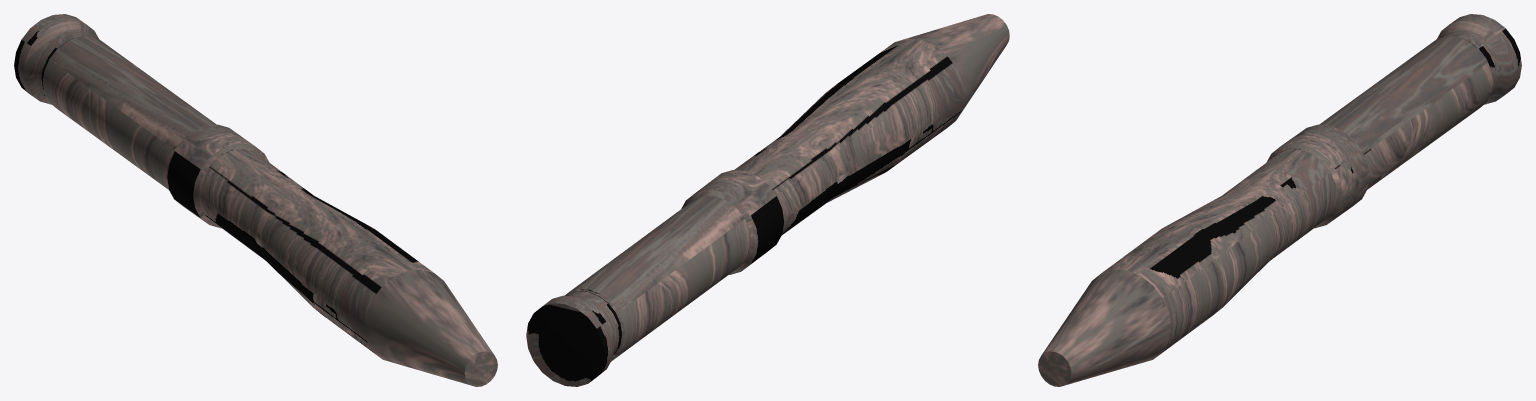
File: tris.obj
3 views of the same model, side by side, from view 1: azimuth 30°, elevation 25°; view 2: azimuth 150°, elevation 25°; view 3: azimuth 330°, elevation 25° (orthographic).
Visible parts, largest first — view 1: pasted__pCylinder1 group1; view 2: pasted__pCylinder1 group1; view 3: pasted__pCylinder1 group1.
Boxes of the visible parts, x1,y1,x2,y2 form: pasted__pCylinder1 group1: [14, 14, 497, 386]; pasted__pCylinder1 group1: [526, 14, 1009, 386]; pasted__pCylinder1 group1: [1038, 14, 1521, 386].
Bounding box in the file's own units: 5.26 × 5.29 × 44.61.
1 material, 1 textured.
